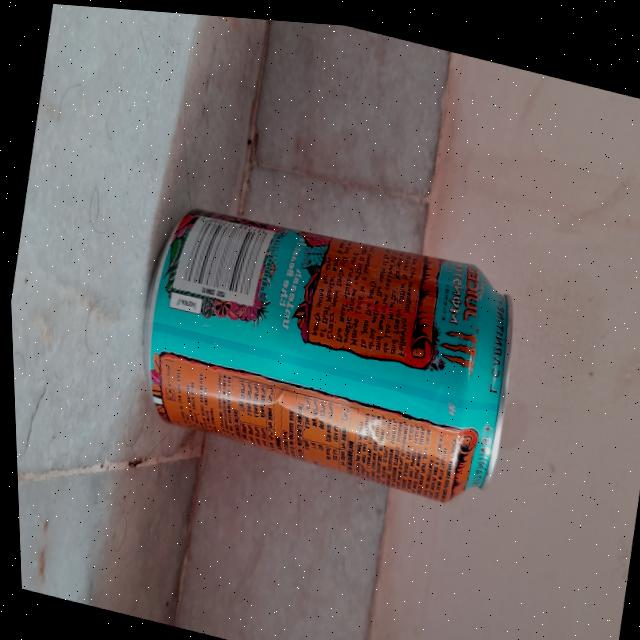Monster Mango Loco: (107, 170, 544, 543)
